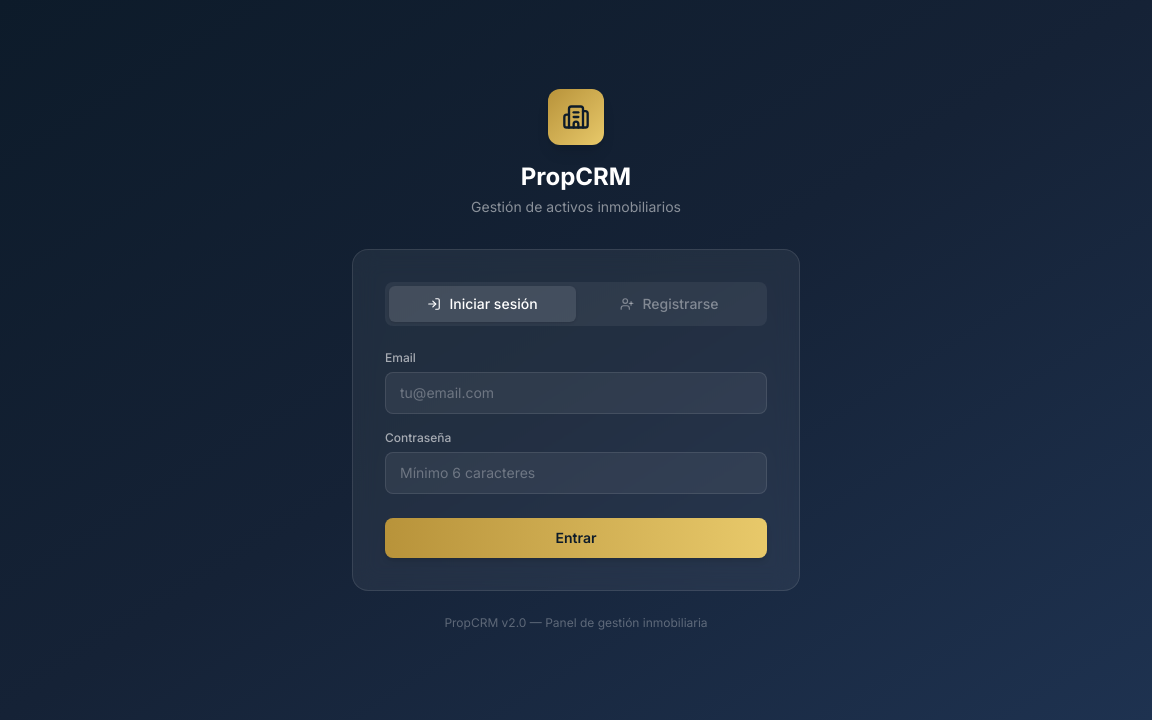
Test case: LoginPage registration form › changes country code when selecting a different country
Click the button "Registrarse": [670, 304] box 576,286 -> 763,322
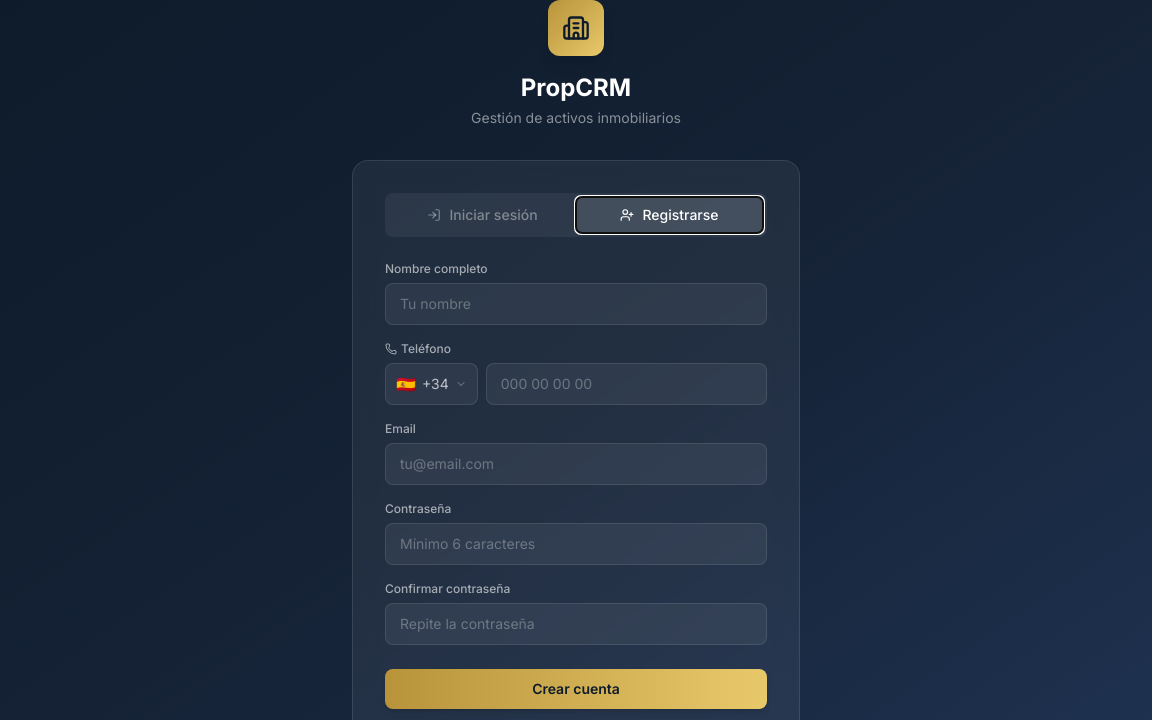
// Open dropdown
Click the text "+34": [435, 384] box 422,374 -> 449,394
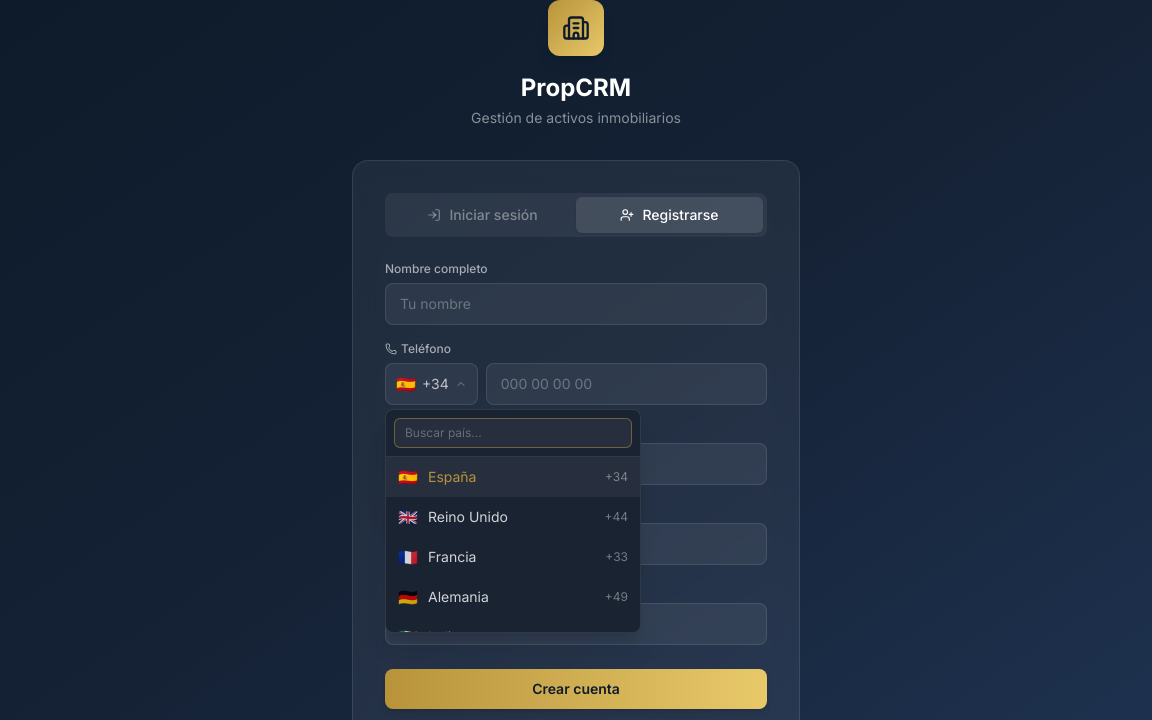
// Search and select US
In the field with placeholder "Buscar país...": [513, 433] box 394,418 -> 632,448, type "estados"
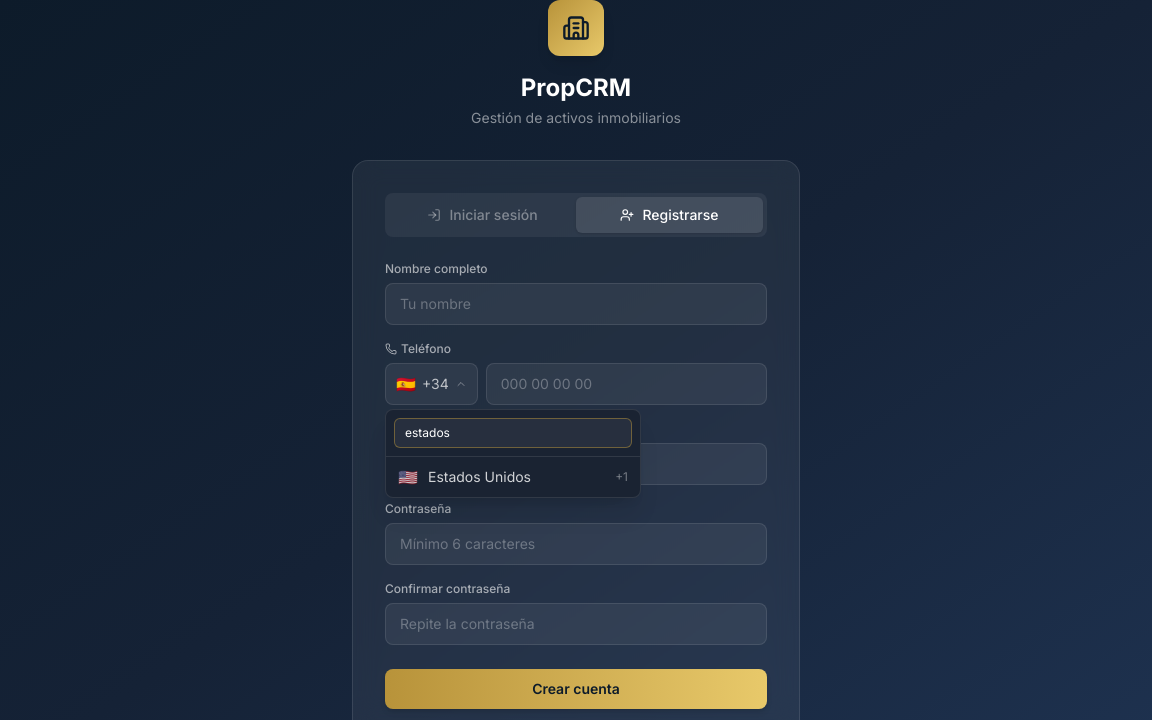
Click the text "Estados Unidos": [480, 476] box 428,468 -> 531,485
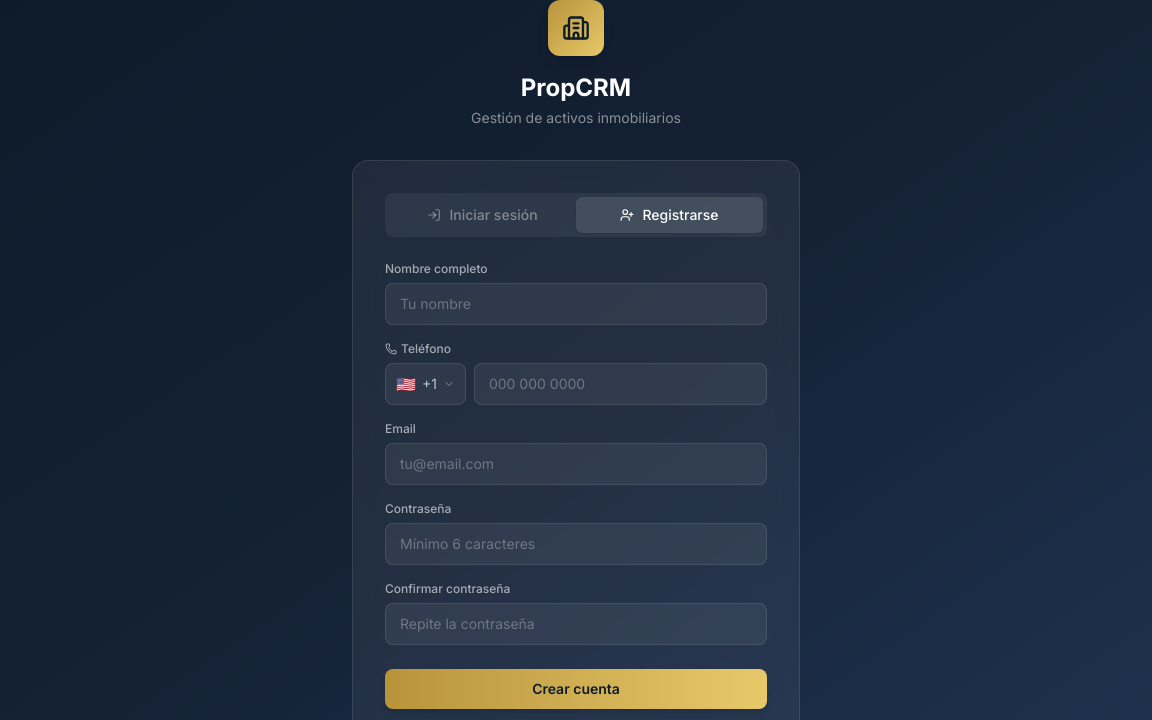
Result: the text "+1" is shown at 422,374 -> 437,394
